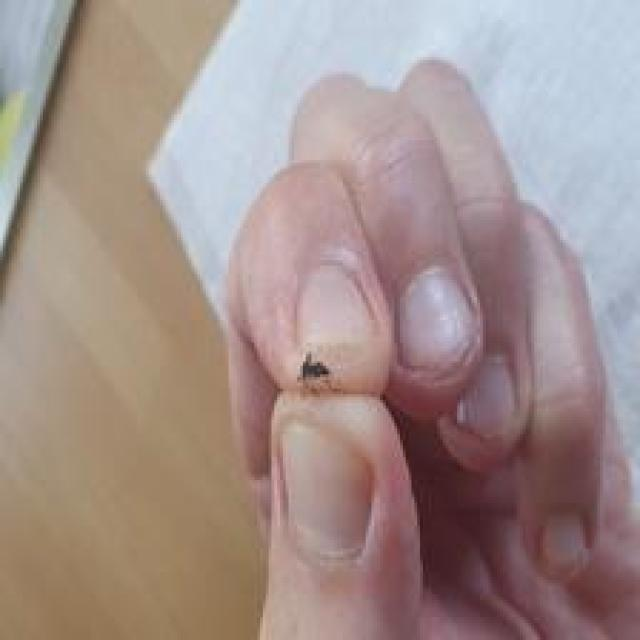Aedes albopictus: (294, 350, 332, 384)
